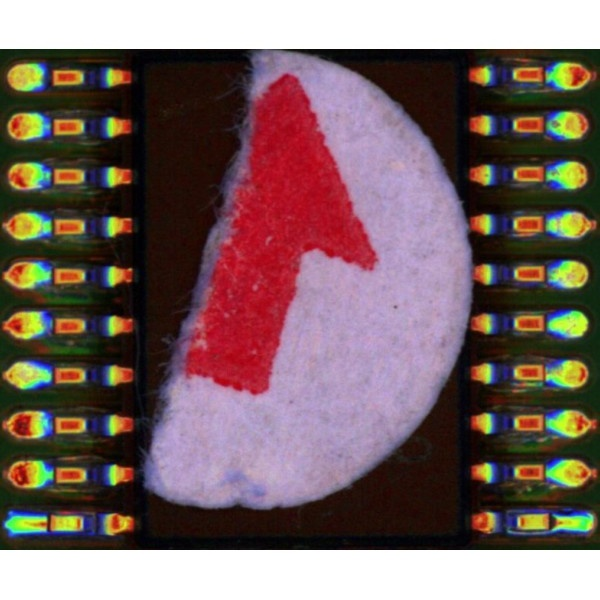Bad_podu: (32, 518, 64, 529), (542, 516, 569, 529)
Bad_qiaojiao: (507, 529, 550, 537)
